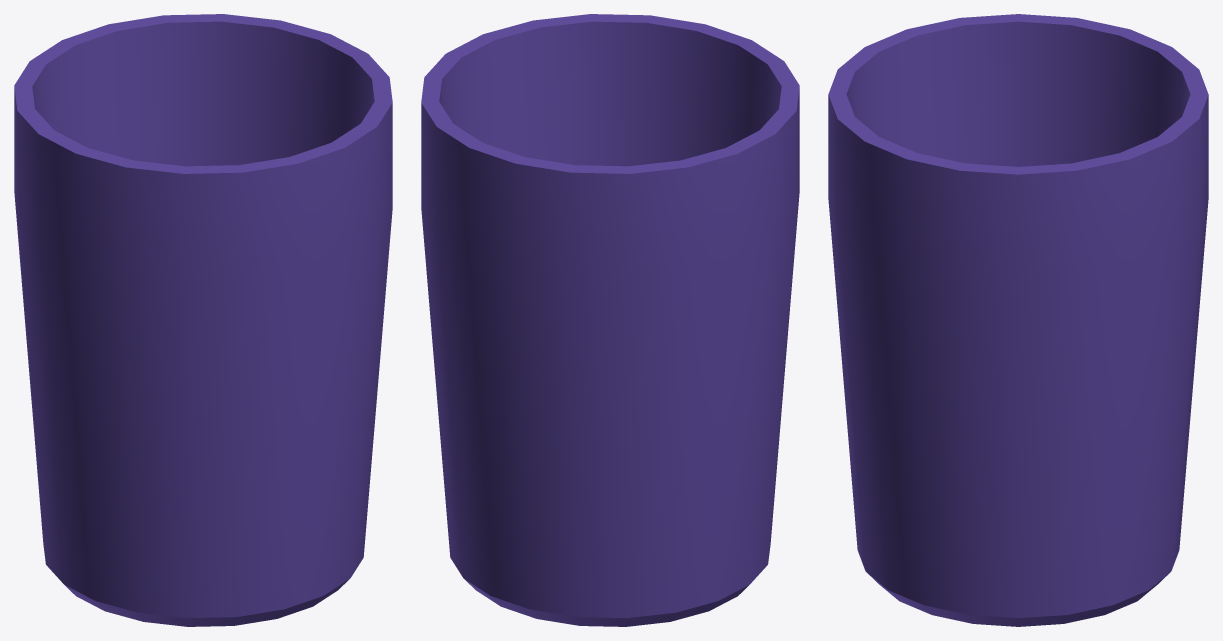
File: cup.fbx
3 renders of one model, left to right at view 1: azimuth 30°, elevation 25°; view 2: azimuth 150°, elevation 25°; view 3: azimuth 270°, elevation 25°, orthographic.
Visible parts, largest first — view 1: cup; view 2: cup; view 3: cup.
Part boxes in pixels (box(x1,y1,x2,y2)): cup: box(14, 14, 392, 626); cup: box(421, 14, 799, 626); cup: box(828, 14, 1208, 626).
Bounding box in the file's own units: 0.00116 × 0.00158 × 0.00116.
